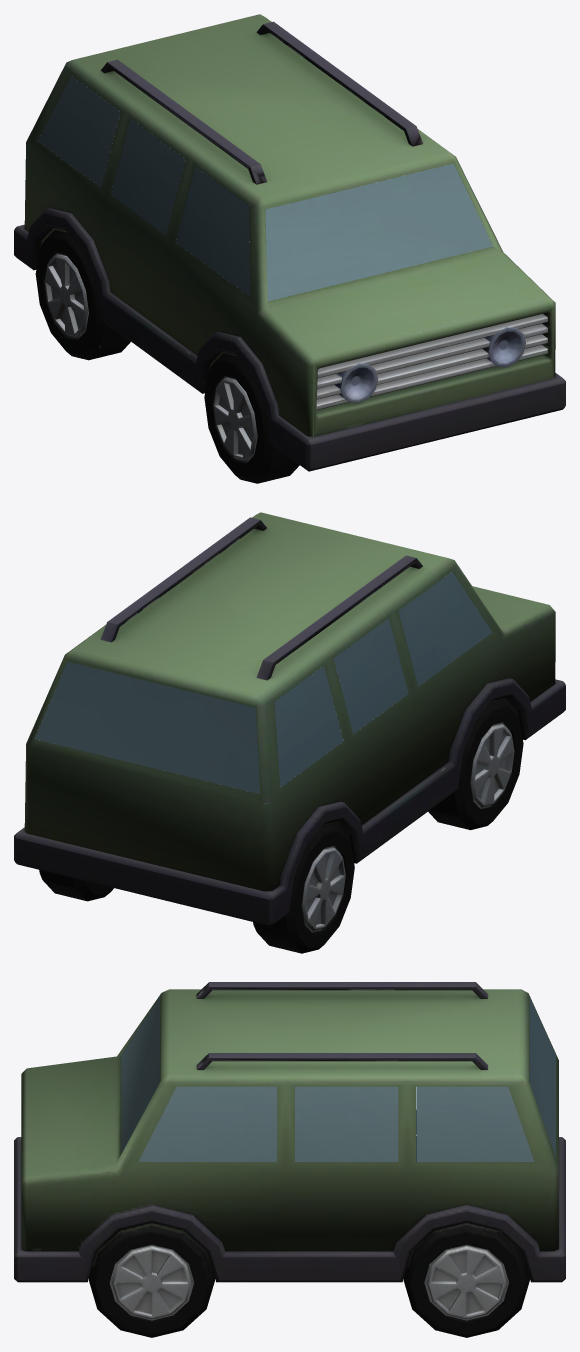
File: car2.glb
3 renders of one model, top to bottom at view 1: azimuth 30°, elevation 25°; view 2: azimuth 150°, elevation 25°; view 3: azimuth 270°, elevation 25°, orthographic. The views are drawn at different scales.
Visible parts, largest first — view 1: Box359; view 2: Box359; view 3: Box359.
Boxes of the visible parts, x1,y1,x2,y2 form: Box359: (14,14,565,483); Box359: (14,512,565,953); Box359: (14,982,565,1337).
Bounding box in the file's own units: 0.7961 × 0.8194 × 1.57.
2 materials, 2 textured.
